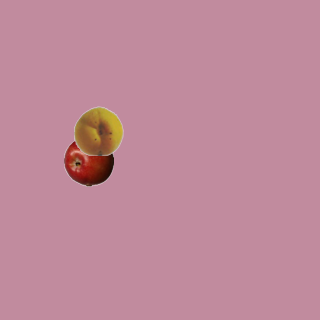Apple Braeburn: (63, 136, 113, 186)
Peach 2: (73, 105, 123, 155)
